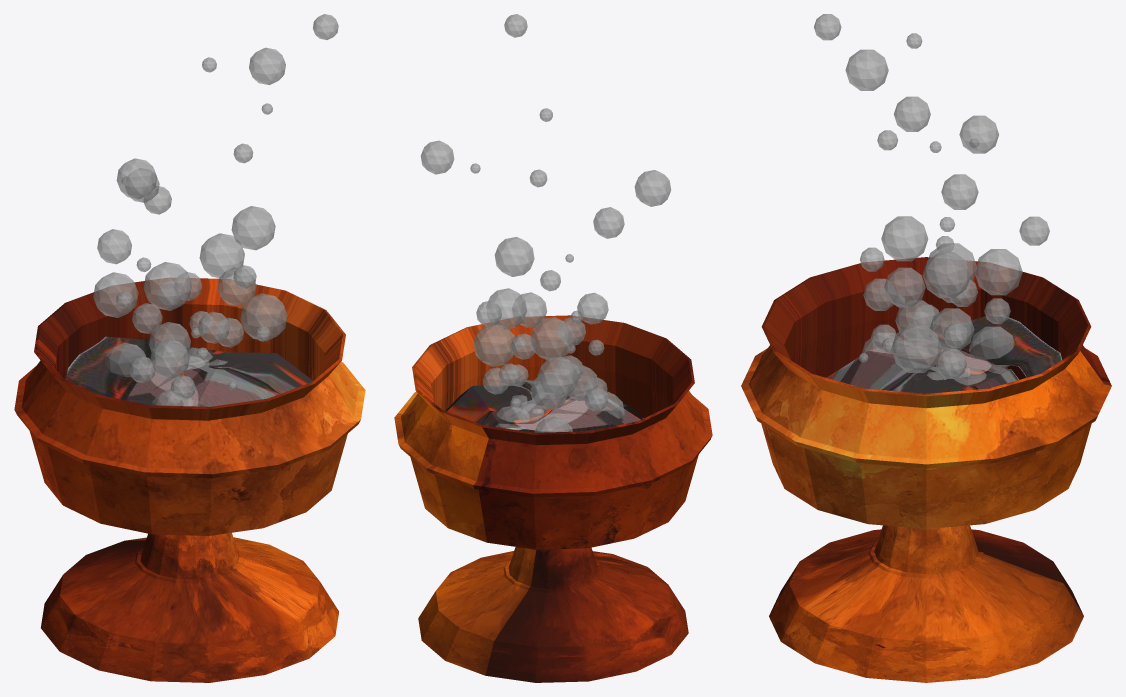
Rendered from Kemeyan.fbx.
3 views of the same model, side by side, from view 1: azimuth 30°, elevation 25°; view 2: azimuth 150°, elevation 25°; view 3: azimuth 270°, elevation 25° (orthographic). The views are drawn at different scales.
Parts seen in each view (by area): view 1: Tembaga, Arang, Smoke|Icosphere|Dupli|229, Smoke|Icosphere|Dupli|227, Smoke|Icosphere|Dupli|233, Smoke|Icosphere|Dupli|221, Smoke|Icosphere|Dupli|217, Smoke|Icosphere|Dupli|238, Smoke|Icosphere|Dupli|207, Smoke|Icosphere|Dupli|237, Smoke|Icosphere|Dupli|223, Smoke|Icosphere|Dupli|196 (+11 smaller); view 2: Tembaga, Arang, Smoke|Icosphere|Dupli|229, Smoke|Icosphere|Dupli|227, Smoke|Icosphere|Dupli|233, Smoke|Icosphere|Dupli|221, Smoke|Icosphere|Dupli|217, Smoke|Icosphere|Dupli|238, Smoke|Icosphere|Dupli|207, Smoke|Icosphere|Dupli|223, Smoke|Icosphere|Dupli|196, Smoke|Icosphere|Dupli|212 (+7 smaller); view 3: Tembaga, Arang, Smoke|Icosphere|Dupli|227, Smoke|Icosphere|Dupli|221, Smoke|Icosphere|Dupli|233, Smoke|Icosphere|Dupli|229, Smoke|Icosphere|Dupli|217, Smoke|Icosphere|Dupli|238, Smoke|Icosphere|Dupli|207, Smoke|Icosphere|Dupli|223, Smoke|Icosphere|Dupli|237, Smoke|Icosphere|Dupli|239 (+7 smaller).
Boxes of the visible parts, x1=… form: Tembaga: x1=14, y1=277, x2=365, y2=682; Arang: x1=65, y1=336, x2=312, y2=406; Smoke|Icosphere|Dupli|229: x1=143, y1=262, x2=191, y2=310; Smoke|Icosphere|Dupli|227: x1=240, y1=293, x2=287, y2=341; Smoke|Icosphere|Dupli|233: x1=93, y1=272, x2=138, y2=317; Smoke|Icosphere|Dupli|221: x1=199, y1=233, x2=244, y2=278; Smoke|Icosphere|Dupli|217: x1=231, y1=206, x2=275, y2=250; Smoke|Icosphere|Dupli|238: x1=149, y1=322, x2=190, y2=363; Smoke|Icosphere|Dupli|207: x1=116, y1=158, x2=156, y2=198; Smoke|Icosphere|Dupli|237: x1=150, y1=339, x2=189, y2=378; Smoke|Icosphere|Dupli|223: x1=217, y1=267, x2=256, y2=306; Smoke|Icosphere|Dupli|196: x1=249, y1=47, x2=285, y2=84; Tembaga: x1=394, y1=315, x2=712, y2=682; Arang: x1=445, y1=380, x2=643, y2=432; Smoke|Icosphere|Dupli|229: x1=530, y1=317, x2=573, y2=360; Smoke|Icosphere|Dupli|227: x1=473, y1=324, x2=515, y2=366; Smoke|Icosphere|Dupli|233: x1=537, y1=356, x2=578, y2=397; Smoke|Icosphere|Dupli|221: x1=486, y1=288, x2=526, y2=329; Smoke|Icosphere|Dupli|217: x1=494, y1=237, x2=534, y2=276; Smoke|Icosphere|Dupli|238: x1=530, y1=372, x2=567, y2=410; Smoke|Icosphere|Dupli|207: x1=634, y1=170, x2=671, y2=206; Smoke|Icosphere|Dupli|223: x1=512, y1=292, x2=547, y2=327; Smoke|Icosphere|Dupli|196: x1=420, y1=140, x2=454, y2=174; Smoke|Icosphere|Dupli|212: x1=577, y1=292, x2=608, y2=324; Tembaga: x1=741, y1=257, x2=1111, y2=682; Arang: x1=826, y1=314, x2=1061, y2=393; Smoke|Icosphere|Dupli|227: x1=891, y1=324, x2=941, y2=372; Smoke|Icosphere|Dupli|221: x1=922, y1=252, x2=970, y2=298; Smoke|Icosphere|Dupli|233: x1=975, y1=249, x2=1022, y2=295; Smoke|Icosphere|Dupli|229: x1=926, y1=243, x2=977, y2=292; Smoke|Icosphere|Dupli|217: x1=881, y1=216, x2=928, y2=261; Smoke|Icosphere|Dupli|238: x1=930, y1=308, x2=974, y2=350; Smoke|Icosphere|Dupli|207: x1=845, y1=49, x2=888, y2=90; Smoke|Icosphere|Dupli|223: x1=884, y1=267, x2=925, y2=307; Smoke|Icosphere|Dupli|237: x1=895, y1=300, x2=936, y2=339; Smoke|Icosphere|Dupli|239: x1=969, y1=326, x2=1014, y2=368.
Size of the model in its own units: 190 by 366 by 190.
Materials: 3 (2 with a texture image).
